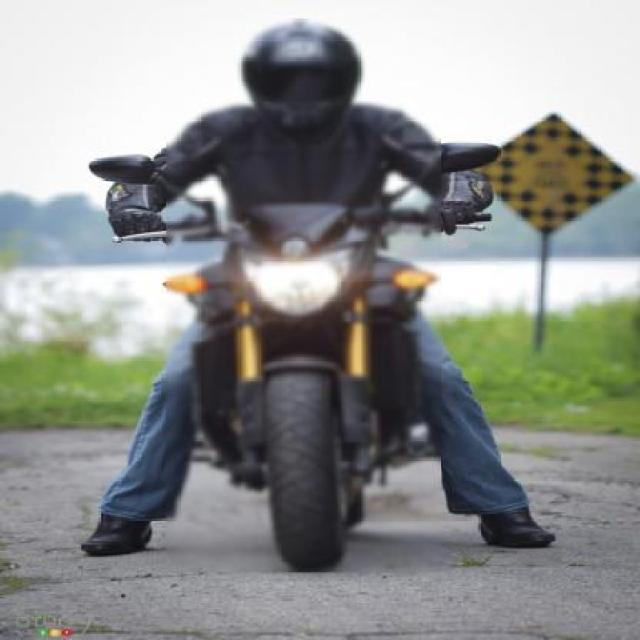helmet: (190, 10, 372, 154)
motorcycle: (45, 0, 570, 606)
